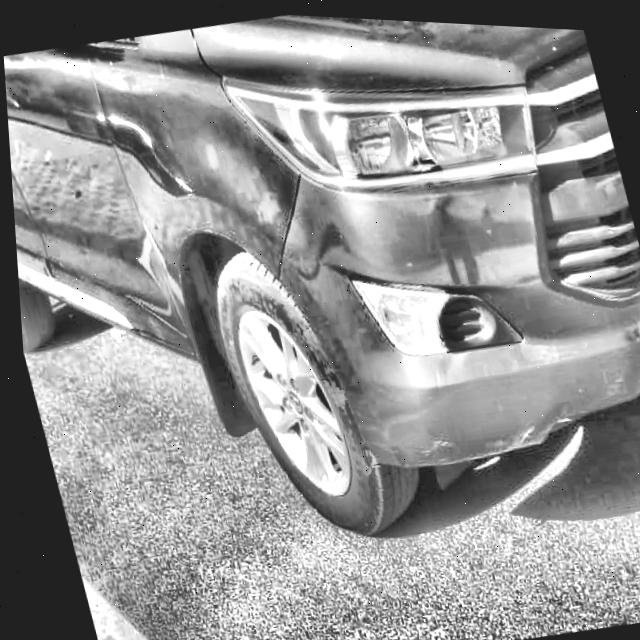light_vehicle: (0, 0, 640, 602)
